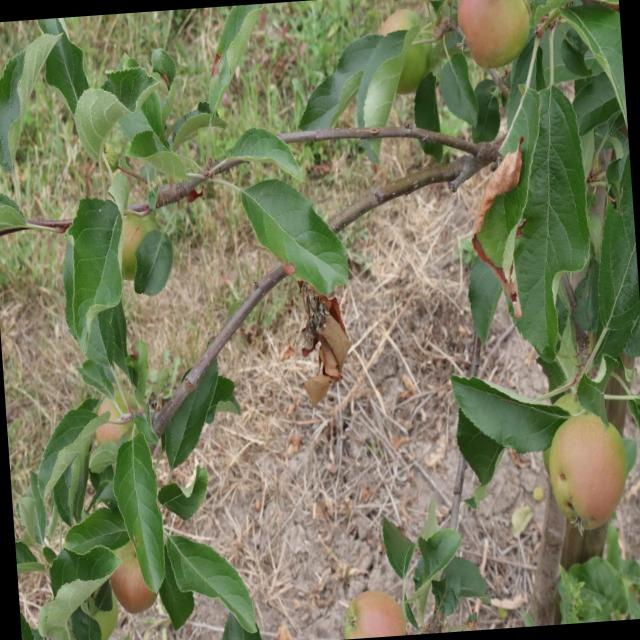-FireBlight-: (298, 282, 348, 403)
